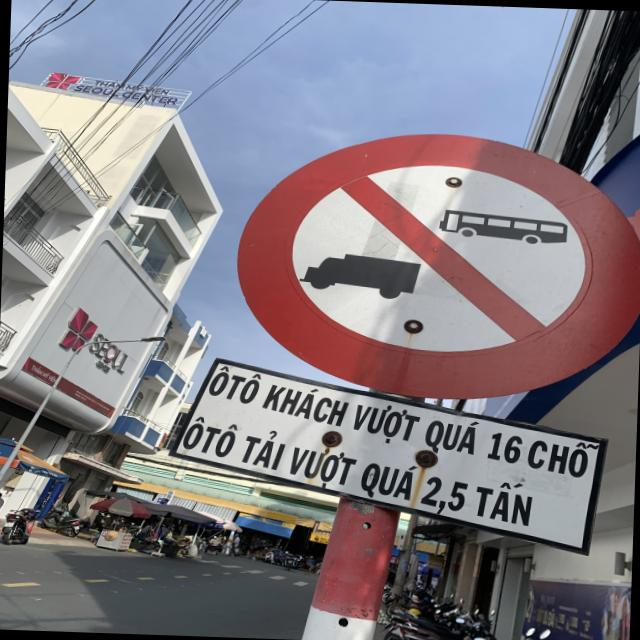Cam_XeTai_XeKhach: (227, 123, 640, 410)
